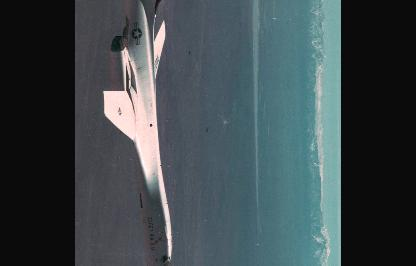AV8B: (103, 0, 189, 265)
